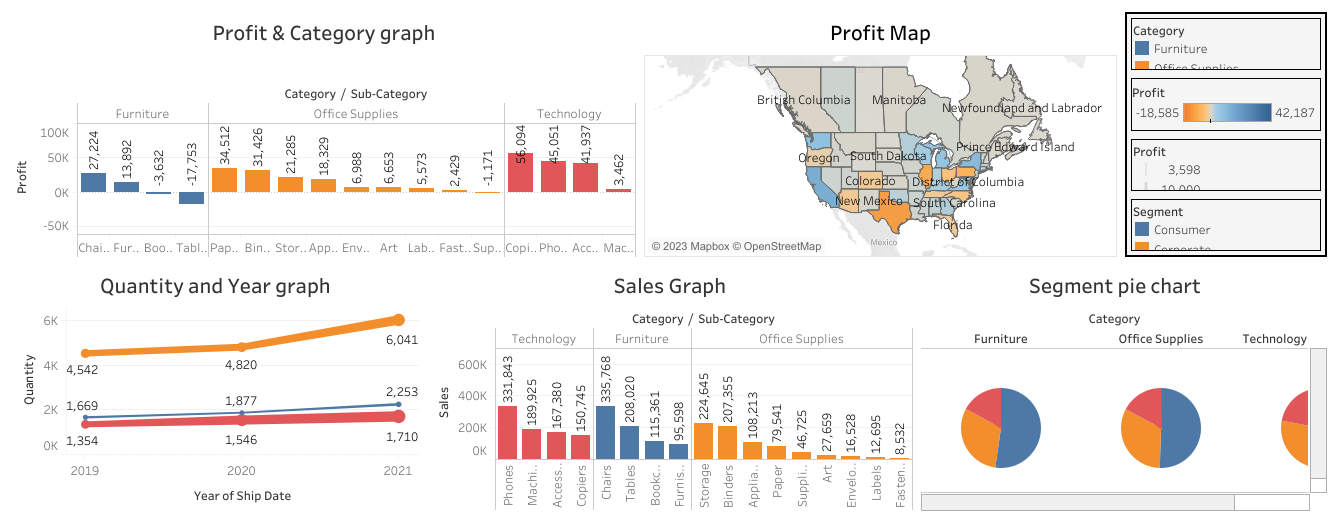

The dashboard page shown, as its layout file describes it:
{"tool":"tableau","page":{"name":"Dashboard 1","canvas":[1000,1000],"units":"permille","ordinal":0},"visuals":[{"type":"worksheet","title":"Category/subcategory V/s Profits","mark":"Automatic","rows":["Profit"],"cols":["Category","Sub-Category"],"box":[6.9,13.5,470.9,486.5]},{"type":"worksheet","title":"Country V/s profit &sales of categories","mark":"Multipolygon","box":[477.9,13.5,358.4,486.5]},{"type":"legend","title":"Category/subcategory V/s Profits","param":"[federated.14ni4qc19703pw12qv84v02xfpp5].[none:Category:nk]","box":[841.5,23.7,146.4,117.7]},{"type":"legend","title":"Country V/s profit &sales of categories","param":"[federated.14ni4qc19703pw12qv84v02xfpp5].[sum:Profit:qk]","box":[841.5,141.3,146.4,113.2]},{"type":"legend","title":"Quantity V/s Year","param":"[federated.14ni4qc19703pw12qv84v02xfpp5].[sum:Profit:qk]","box":[841.5,254.5,146.4,117.7]},{"type":"legend","title":"Category Pie chart ","param":"[federated.14ni4qc19703pw12qv84v02xfpp5].[none:Segment:nk]","box":[841.5,372.2,146.4,117.7]},{"type":"worksheet","title":"Quantity V/s Year","mark":"Automatic","rows":["Quantity"],"cols":["Ship Date"],"box":[6.9,500,309,486.5]},{"type":"worksheet","title":"Category V/s Sales","mark":"Automatic","rows":["Sales"],"cols":["Category","Sub-Category"],"box":[315.9,500,368.3,486.5]},{"type":"worksheet","title":"Category Pie chart ","mark":"Pie","cols":["Category"],"box":[684.3,500,308.8,486.5]}]}

Visuals, with their boxes on the dashboard's canvas, which has no fixed pixel size, in thousandths of its width and height (x1, y1, x2, y2). These are canvas units, not pixel positions in the 1338x522 screenshot, which may show the page scaled, cropped or inside an application window:
"Category/subcategory V/s Profits" worksheet: 7/14/478/500
"Country V/s profit &sales of categories" worksheet (Multipolygon marks): 478/14/836/500
"Category/subcategory V/s Profits" legend: 842/24/988/141
"Country V/s profit &sales of categories" legend: 842/141/988/254
"Quantity V/s Year" legend: 842/254/988/372
"Category Pie chart " legend: 842/372/988/490
"Quantity V/s Year" worksheet: 7/500/316/986
"Category V/s Sales" worksheet: 316/500/684/986
"Category Pie chart " worksheet (Pie marks): 684/500/993/986
